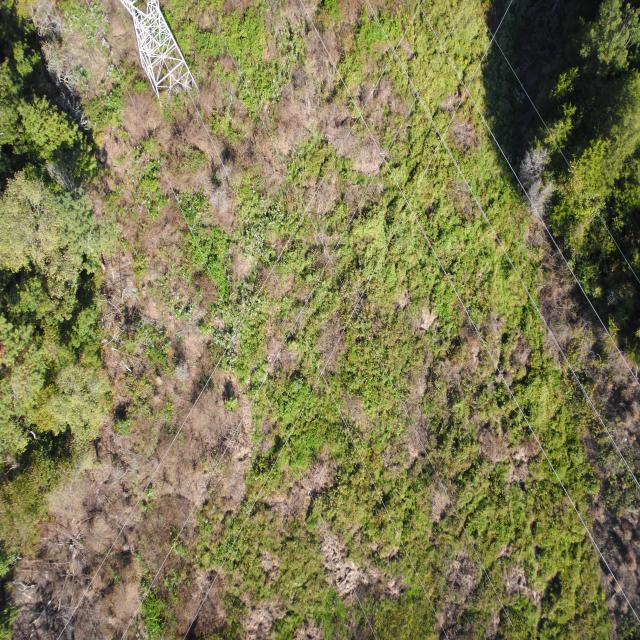Area of Interest: (6, 12, 100, 524), (538, 0, 638, 307)
